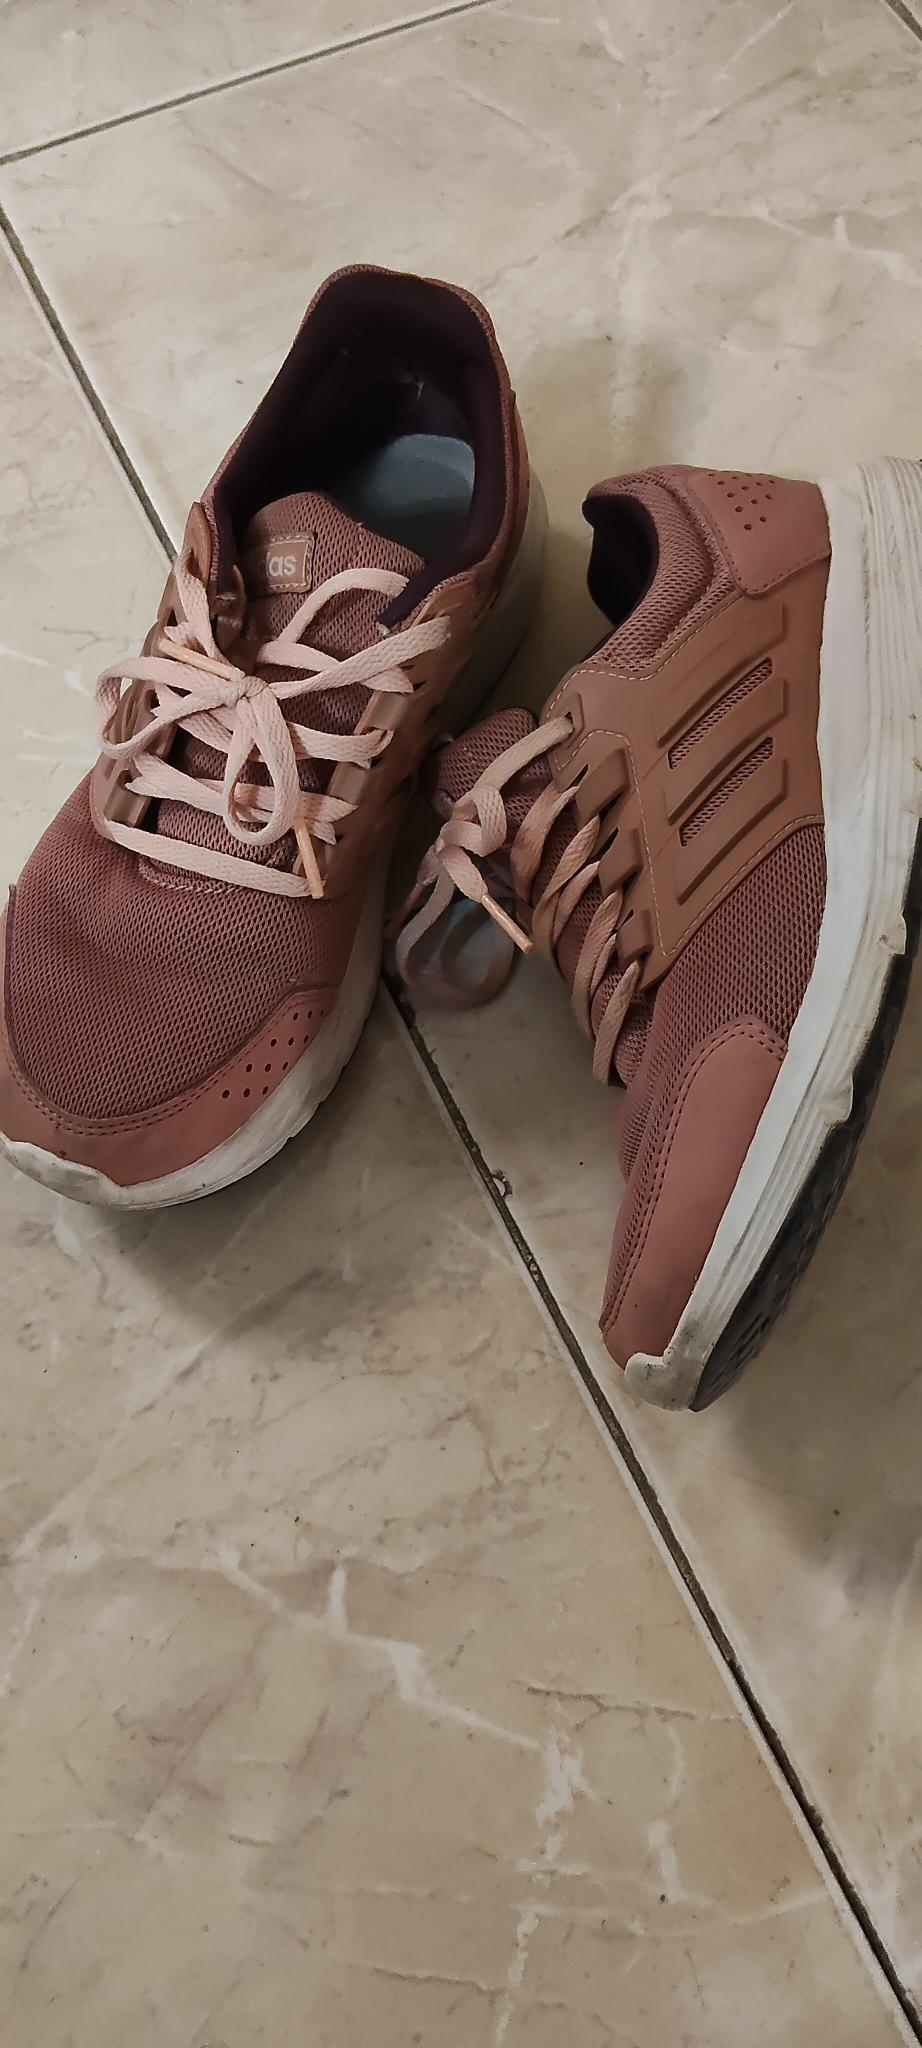Shoes: (0, 251, 543, 1216), (410, 455, 922, 1397)
